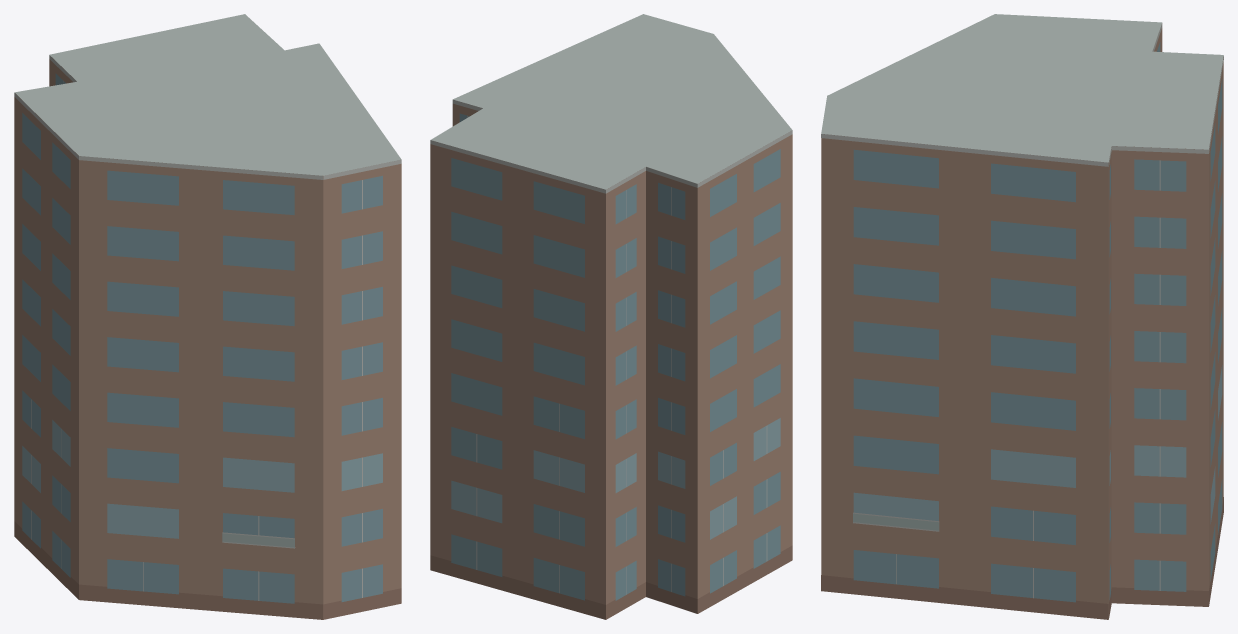
The model's file is survey-upis-32583444.glb.
3 views of the same model, side by side, from view 1: azimuth 30°, elevation 25°; view 2: azimuth 150°, elevation 25°; view 3: azimuth 270°, elevation 25° (orthographic). The views are drawn at different scales.
Parts seen in each view (by area): view 1: survey-upis-32583444.tmp; view 2: survey-upis-32583444.tmp; view 3: survey-upis-32583444.tmp.
Part boxes in pixels (x1,y1,x2,y2): survey-upis-32583444.tmp: [14, 14, 401, 619]; survey-upis-32583444.tmp: [430, 14, 792, 619]; survey-upis-32583444.tmp: [821, 14, 1223, 619].
Size of the model in its own units: 18.09 by 25.95 by 20.72.
